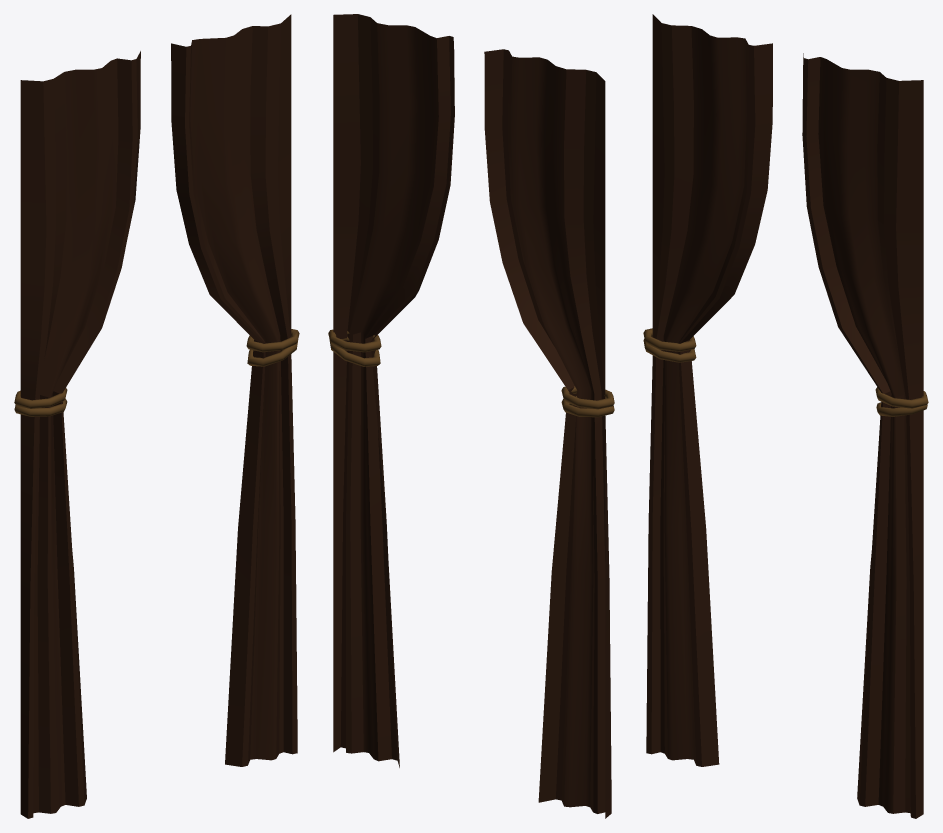
File: SM_Curtains_02.fbx
3 renders of one model, left to right at view 1: azimuth 30°, elevation 25°; view 2: azimuth 150°, elevation 25°; view 3: azimuth 330°, elevation 25°, orthographic.
Visible parts, largest first — view 1: SM_Curtains_02; view 2: SM_Curtains_02; view 3: SM_Curtains_02.
Part boxes in pixels (x1=…): SM_Curtains_02: x1=14, y1=14, x2=299, y2=818; SM_Curtains_02: x1=328, y1=14, x2=614, y2=818; SM_Curtains_02: x1=643, y1=14, x2=928, y2=818.
Bounding box in the file's own units: 44 × 108 × 5.49.
